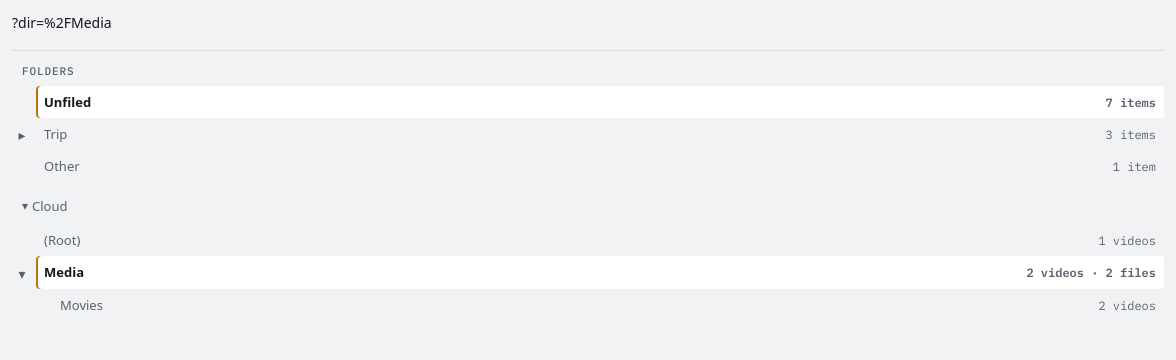
Test case: SidebarFolders — curated primary › selecting a curated folder sets ?folder= with no ?dir=
Check: the list item "▸ Trip 3 items" is shown, box 12,118 -> 1164,150
Click the button "Trip 3 items" at [1131, 134], box 36,118 -> 1164,150
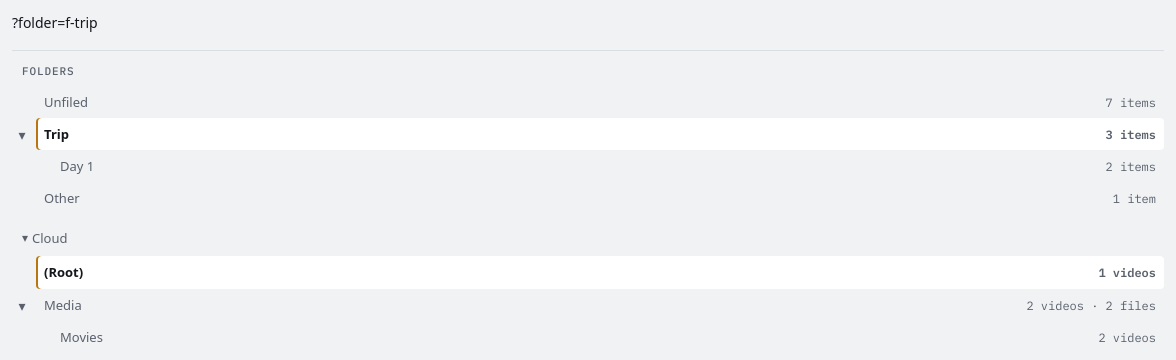
Check: the text with test id "location" shows "folder=f-trip", box 12,13 -> 98,32
Check: the text with test id "location" no longer shows "dir="
